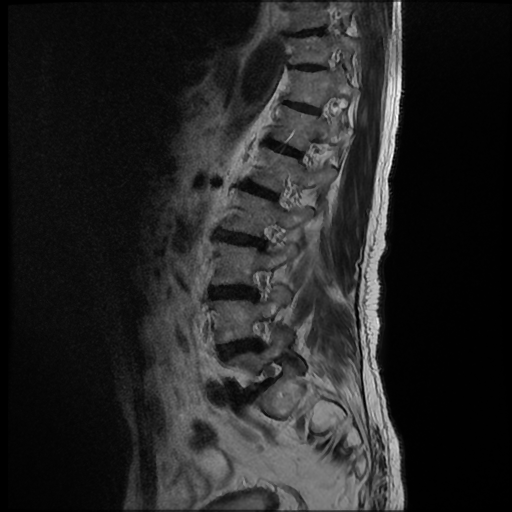LFS1: (242, 311, 283, 357), (239, 262, 280, 308)
